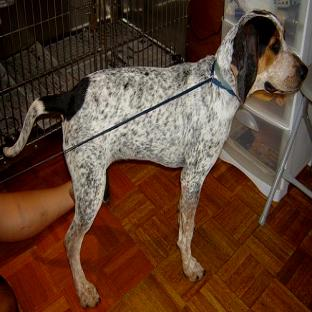Animal: (4, 10, 307, 306)
